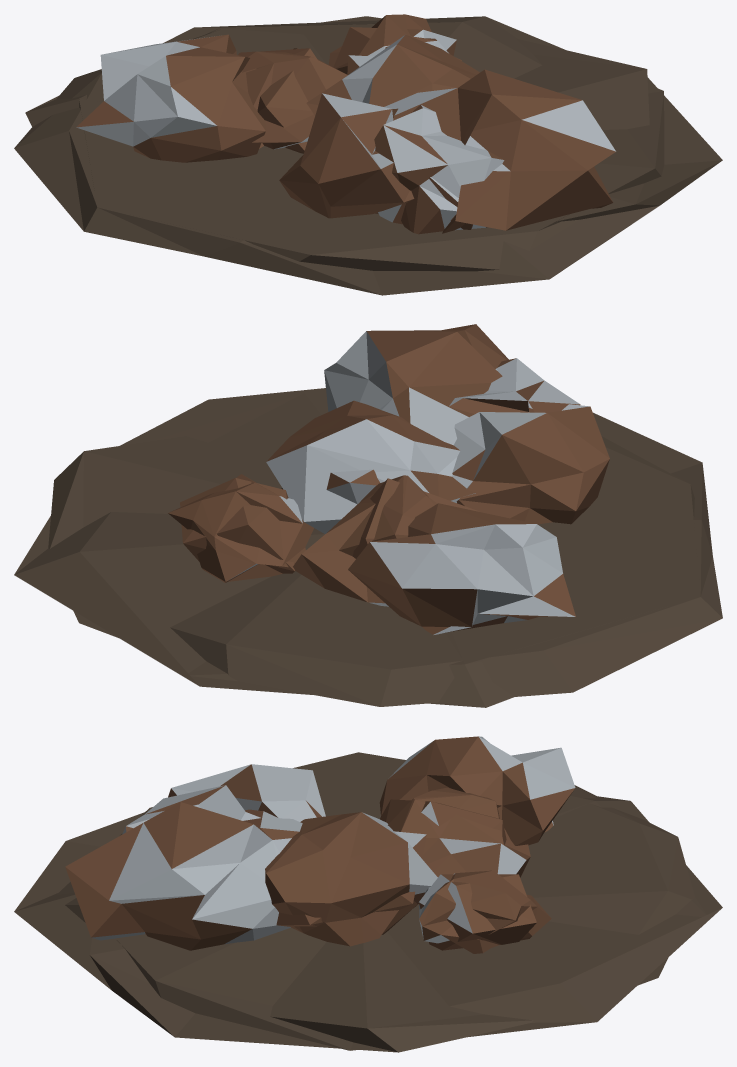
File: neutral_ore_field_stage_02.glb
3 views of the same model, one above another, from view 1: azimuth 30°, elevation 25°; view 2: azimuth 150°, elevation 25°; view 3: azimuth 270°, elevation 25° (orthographic). The views are drawn at different scales.
Visible parts, largest first — view 1: ore (×2), soil (×2); view 2: soil (×2), ore (×2); view 3: soil (×2), ore (×2).
Part boxes in pixels (x1=…): ore (×2): x1=76, y1=14, x2=616, y2=234; soil (×2): x1=14, y1=16, x2=722, y2=295; soil (×2): x1=14, y1=388, x2=722, y2=707; ore (×2): x1=168, y1=324, x2=609, y2=634; soil (×2): x1=14, y1=752, x2=722, y2=1052; ore (×2): x1=65, y1=736, x2=575, y2=953.
Bounding box in the file's own units: 3.09 × 0.7014 × 3.19.
